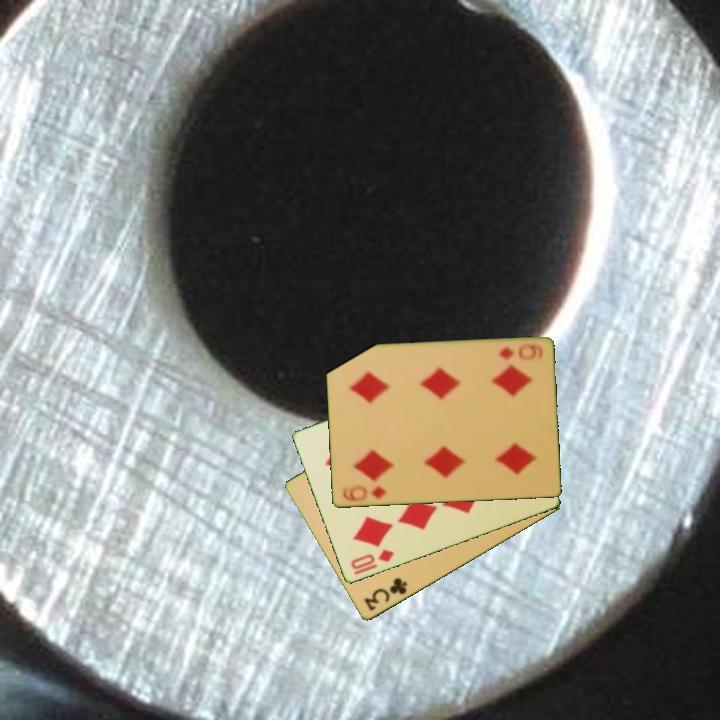10d: (347, 546, 397, 573)
3c: (360, 574, 410, 614)
6d: (339, 482, 389, 505), (496, 340, 539, 363)
